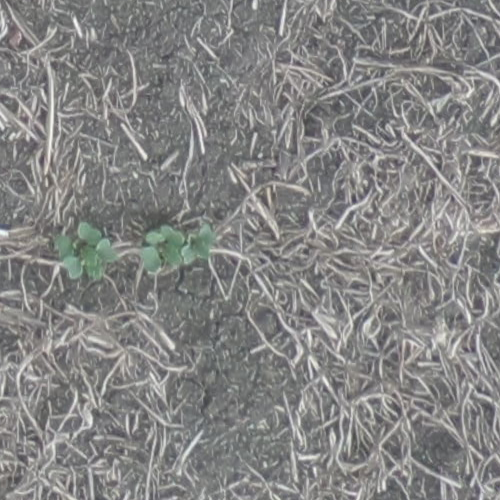plant: (55, 223, 121, 283), (143, 225, 214, 271)
